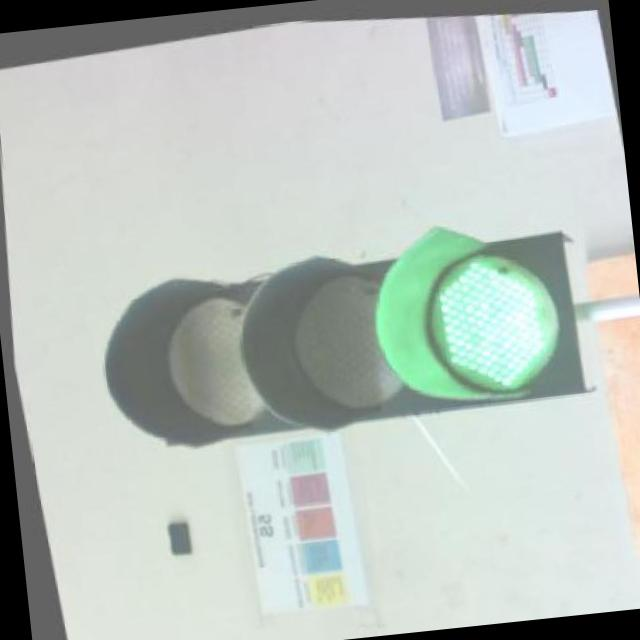green-lights: (412, 237, 562, 403)
